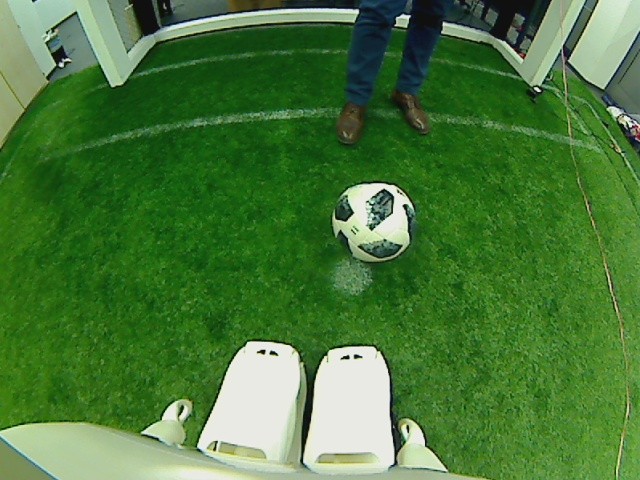ball: (333, 175, 412, 264)
